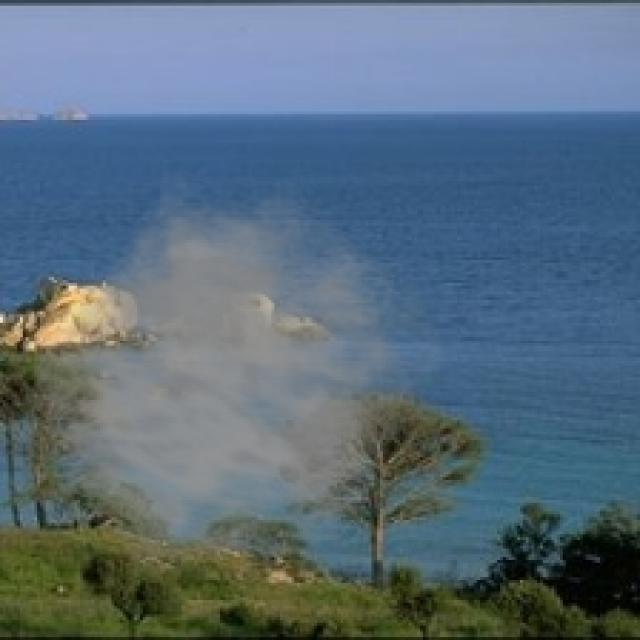smoke: (31, 172, 448, 574)
